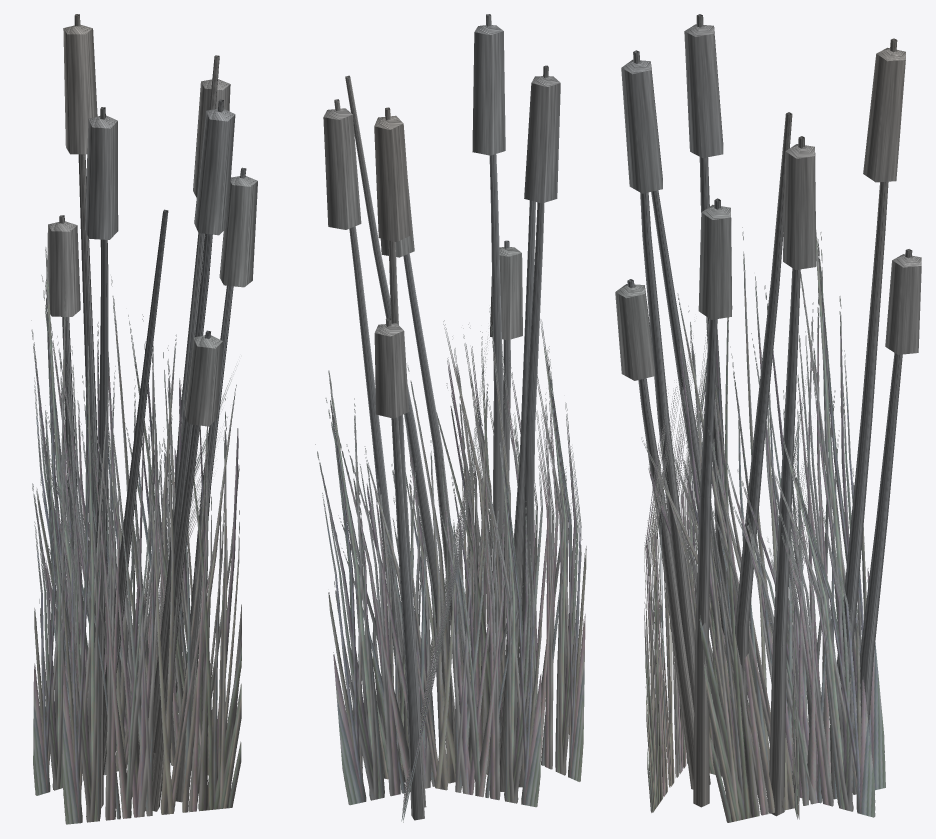
Rendered from reeds_l0.gltf.
3 renders of one model, left to right at view 1: azimuth 30°, elevation 25°; view 2: azimuth 150°, elevation 25°; view 3: azimuth 270°, elevation 25°, orthographic. The views are drawn at different scales.
Visible parts, largest first — view 1: reeds_l0; view 2: reeds_l0; view 3: reeds_l0.
Part boxes in pixels (x1,y1,x2,y2): reeds_l0: (31, 14, 257, 824); reeds_l0: (315, 14, 586, 822); reeds_l0: (615, 14, 921, 822).
Bounding box in the file's own units: 0.73 × 2.03 × 0.7454.
2 materials, 2 textured.
